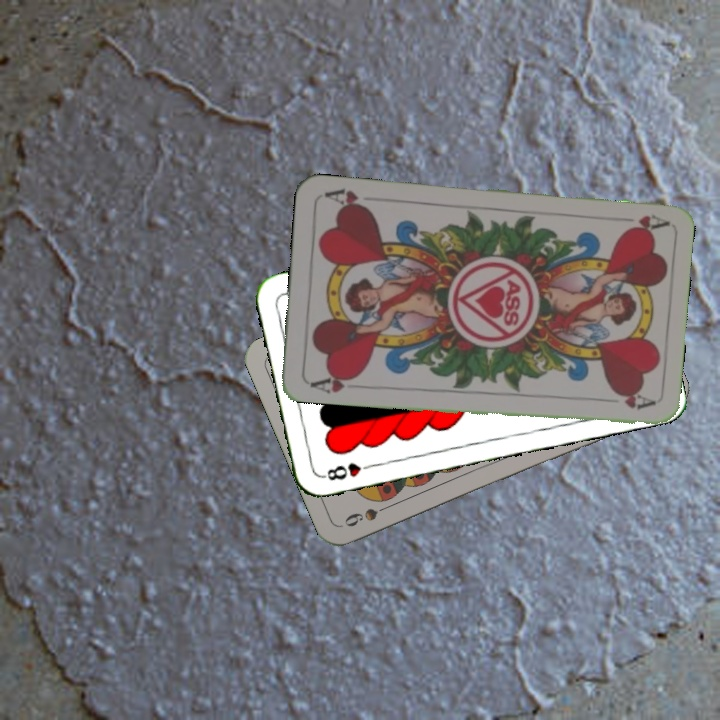H8: (318, 458, 377, 483)
HA: (306, 369, 363, 396), (609, 210, 668, 235)
S9: (340, 499, 397, 530)
